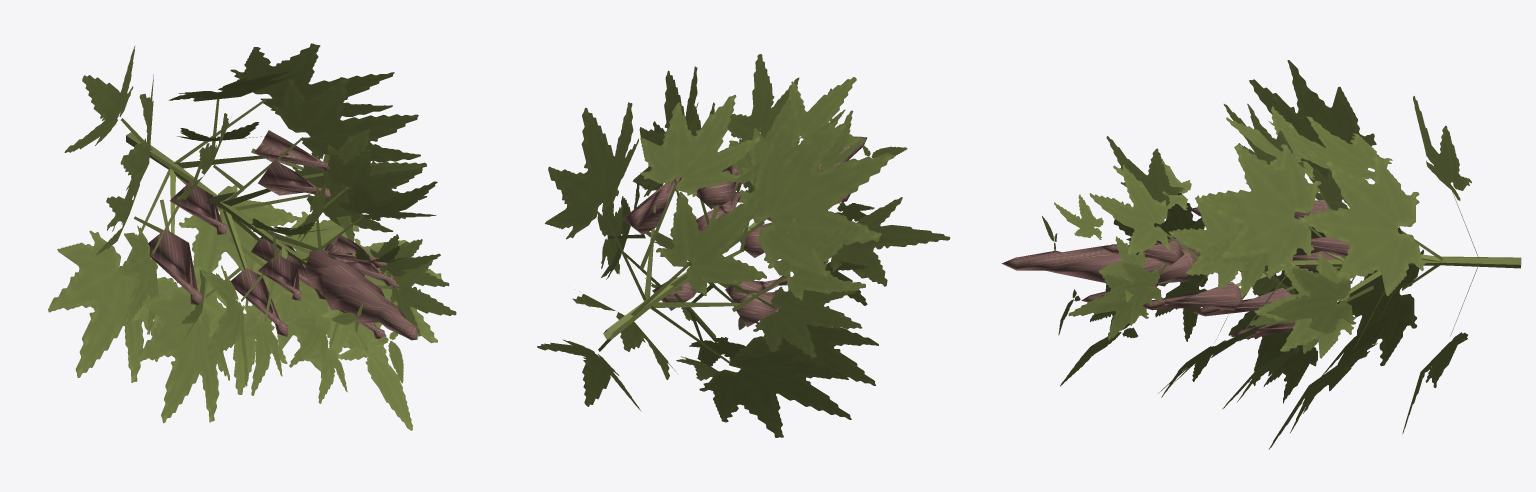
The model's file is p_purple_hybrid_flowering_c1_cards.obj.
The picture shows the model from 3 angles, left to right: view 1: azimuth 30°, elevation 25°; view 2: azimuth 150°, elevation 25°; view 3: azimuth 270°, elevation 25°; orthographic projection. The views are drawn at different scales.
Size of the model in its own units: 1.4 by 1.3 by 1.64.
Materials: 1 (1 with a texture image).
